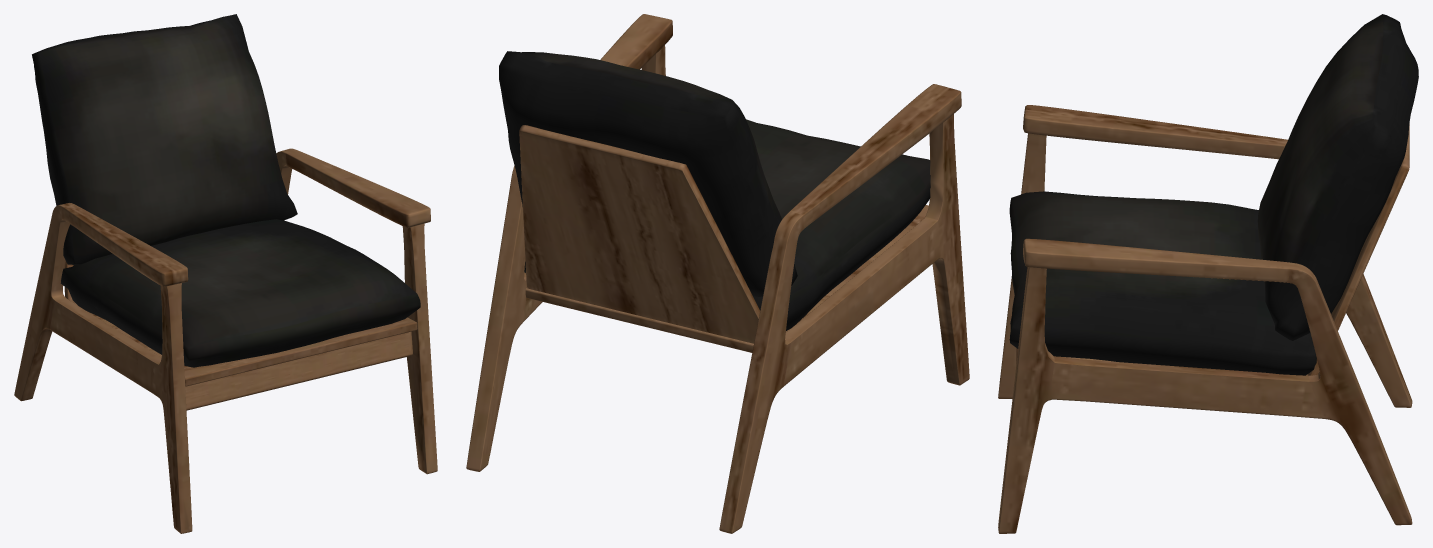
The model's file is modern_arm_chair_01.glb.
The picture shows the model from 3 angles, left to right: view 1: azimuth 30°, elevation 25°; view 2: azimuth 150°, elevation 25°; view 3: azimuth 270°, elevation 25°; orthographic projection. The views are drawn at different scales.
Visible parts, largest first — view 1: modern_arm_chair_01; view 2: modern_arm_chair_01; view 3: modern_arm_chair_01.
Boxes of the visible parts, bbox=[...] form: modern_arm_chair_01: bbox=[14, 14, 437, 533]; modern_arm_chair_01: bbox=[466, 14, 969, 533]; modern_arm_chair_01: bbox=[998, 14, 1418, 533].
Bounding box in the file's own units: 0.8203 × 1.02 × 0.9866.
Materials: 2 (2 with a texture image).
